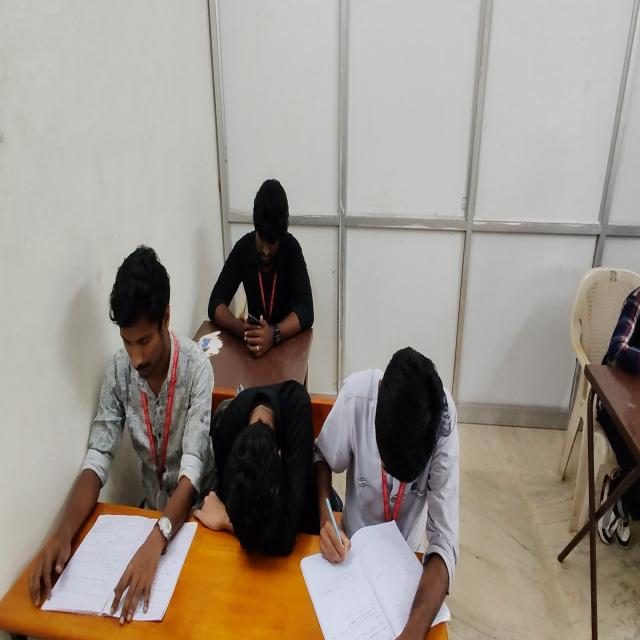reading: (28, 246, 220, 628), (316, 346, 458, 640)
sleeping: (211, 379, 315, 557)
using_mobile: (207, 178, 314, 354)
